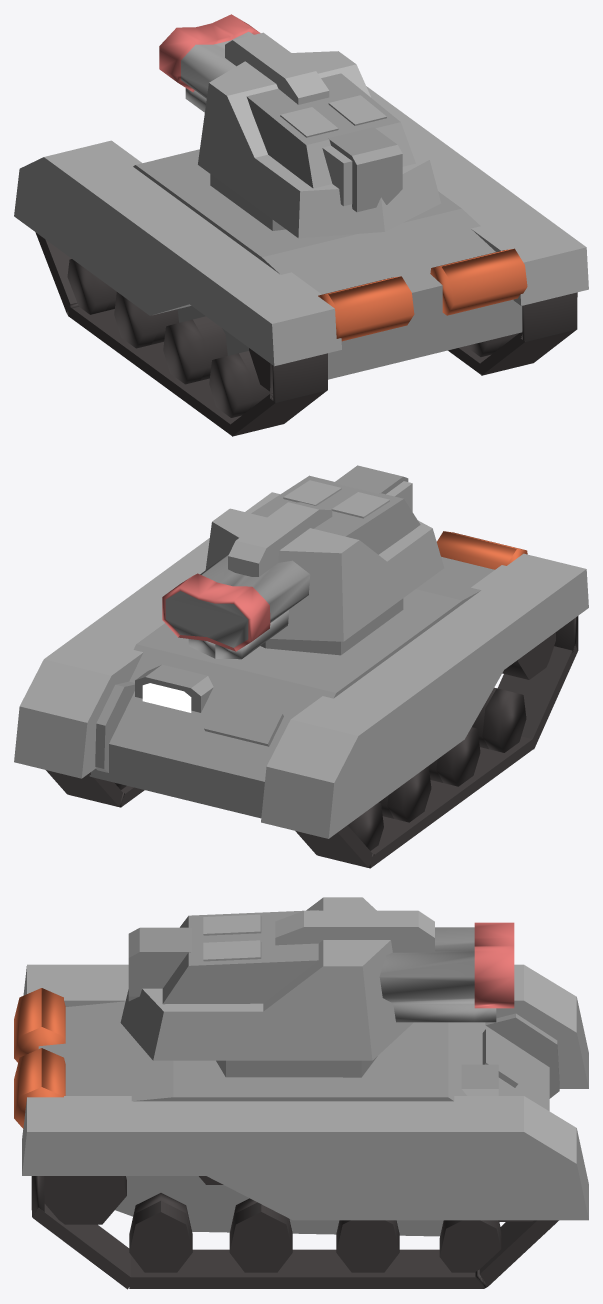
File: burst.glb
3 views of the same model, one above another, from view 1: azimuth 30°, elevation 25°; view 2: azimuth 150°, elevation 25°; view 3: azimuth 270°, elevation 25° (orthographic). The views are drawn at different scales.
Visible parts, largest first — view 1: Cube.003, Cube.004, gun, shell opening; view 2: Cube.003, Cube.004, gun, shell opening; view 3: Cube.003, Cube.004, gun, shell opening.
Boxes of the visible parts, x1,y1,x2,y2 form: Cube.003: (14, 86, 588, 436); Cube.004: (198, 32, 441, 238); gun: (159, 14, 402, 212); shell opening: (280, 95, 386, 137); Cube.003: (14, 492, 588, 868); Cube.004: (205, 475, 444, 655); gun: (162, 465, 412, 659); shell opening: (283, 480, 389, 518); Cube.003: (14, 964, 588, 1289); Cube.004: (120, 897, 434, 1077); gun: (128, 922, 514, 1022); shell opening: (203, 914, 261, 961).
Size of what is drawn, in the model's own units: 4.26 by 3.44 by 6.19.
